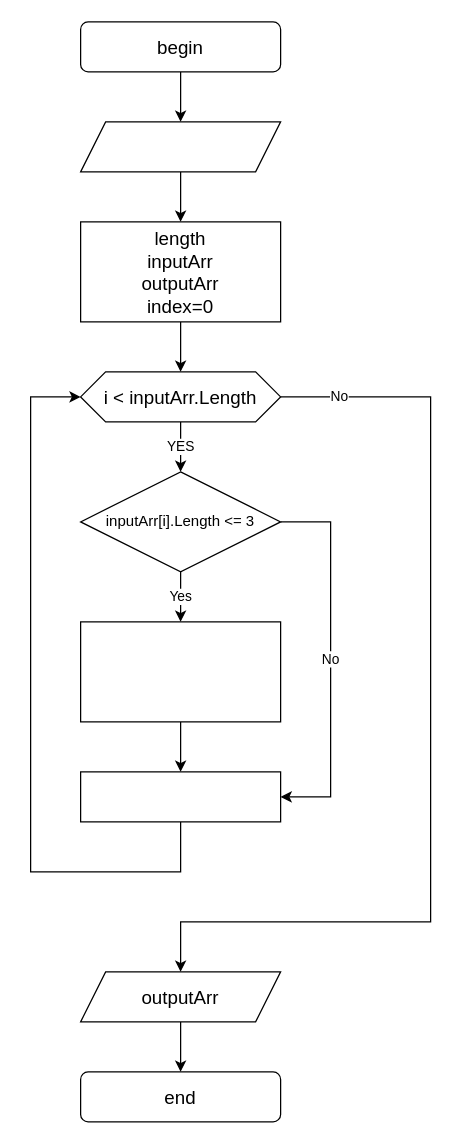
The diagram is 463 pixels wide and 1144 high, and some of its shapes have lost their labels. Each missing label, with the centre of its shape:
"i+=1" goes at point (180, 796).
"length" goes at point (180, 146).
"outputArr[index] = inputArr[i] index +=1" goes at point (180, 671).
